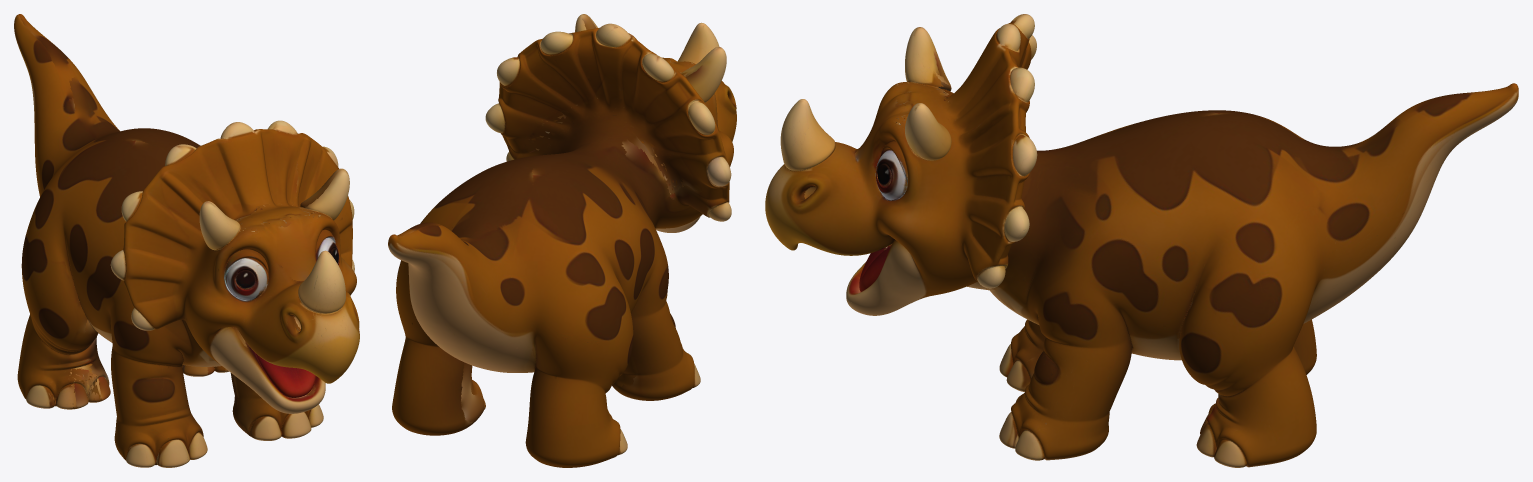
Rendered from tiny_planet_friends_3d-dinosaurs-4032.high.glb.
The picture shows the model from 3 angles, left to right: view 1: azimuth 30°, elevation 25°; view 2: azimuth 150°, elevation 25°; view 3: azimuth 270°, elevation 25°; orthographic projection. The views are drawn at different scales.
Visible parts, largest first — view 1: texture_pbr_v128; view 2: texture_pbr_v128; view 3: texture_pbr_v128.
Part boxes in pixels (box(x1,y1,x2,y2)): texture_pbr_v128: box(14, 14, 359, 467); texture_pbr_v128: box(388, 14, 736, 467); texture_pbr_v128: box(765, 14, 1518, 467).
Bounding box in the file's own units: 0.4834 × 0.6289 × 1.12.
Materials: 1 (1 with a texture image).
